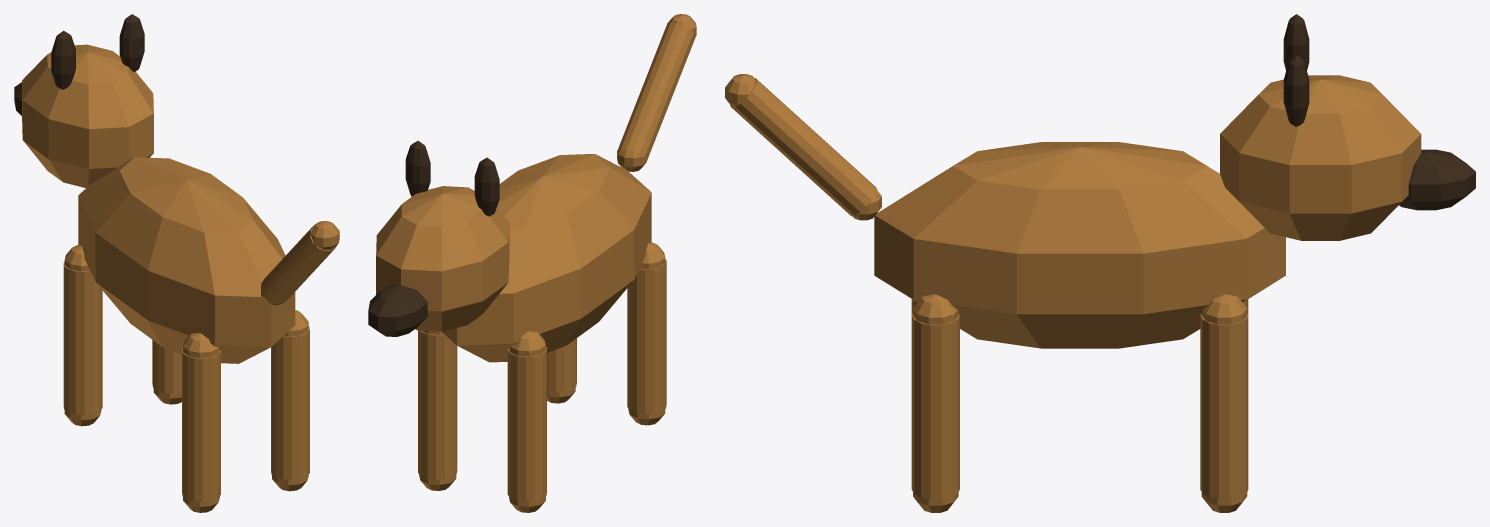
Rendered from rick-dog-BFblUXJ5.glb.
3 views of the same model, side by side, from view 1: azimuth 30°, elevation 25°; view 2: azimuth 150°, elevation 25°; view 3: azimuth 270°, elevation 25° (orthographic). The views are drawn at different scales.
Parts seen in each view (by area): view 1: Sphere, Sphere.001, Cylinder, Cylinder.001, Cylinder.002, Cylinder.004, Cylinder.003, Sphere.003, Sphere.004, Sphere.014, Sphere.005, Sphere.007; view 2: Sphere, Sphere.001, Cylinder.001, Cylinder.003, Cylinder, Cylinder.004, Sphere.002, Cylinder.002, Sphere.003, Sphere.004, Sphere.007, Sphere.005 (+1 smaller); view 3: Sphere, Sphere.001, Cylinder.002, Cylinder.003, Cylinder.004, Sphere.002, Sphere.004, Sphere.011, Sphere.009, Sphere.003.
Part boxes in pixels (<box>): Sphere: <box>78,157,295,363</box>; Sphere.001: <box>22,44,153,187</box>; Cylinder: <box>182,348,220,501</box>; Cylinder.001: <box>63,262,102,415</box>; Cylinder.002: <box>271,326,309,480</box>; Cylinder.004: <box>261,224,337,303</box>; Cylinder.003: <box>152,340,181,393</box>; Sphere.003: <box>51,30,75,89</box>; Sphere.004: <box>119,14,144,71</box>; Sphere.014: <box>310,221,339,249</box>; Sphere.005: <box>183,333,219,358</box>; Sphere.007: <box>64,245,89,271</box>; Sphere: <box>442,154,651,362</box>; Sphere.001: <box>376,186,509,331</box>; Cylinder.001: <box>507,347,546,501</box>; Cylinder.003: <box>418,330,457,479</box>; Cylinder: <box>627,259,666,414</box>; Cylinder.004: <box>617,22,696,161</box>; Sphere.002: <box>368,283,427,336</box>; Cylinder.002: <box>547,338,576,392</box>; Sphere.003: <box>474,157,499,216</box>; Sphere.004: <box>405,140,430,196</box>; Sphere.007: <box>509,331,545,356</box>; Sphere.005: <box>639,242,665,269</box>; Sphere: <box>874,142,1285,348</box>; Sphere.001: <box>1220,75,1421,240</box>; Cylinder.002: <box>911,313,959,499</box>; Cylinder.003: <box>1200,314,1248,499</box>; Cylinder.004: <box>730,78,877,216</box>; Sphere.002: <box>1399,149,1475,210</box>; Sphere.004: <box>1283,55,1309,126</box>; Sphere.011: <box>1201,294,1247,324</box>; Sphere.009: <box>913,294,958,324</box>; Sphere.003: <box>1283,14,1309,70</box>.
Bounding box in the file's own units: 0.3799 × 1.03 × 1.56.
